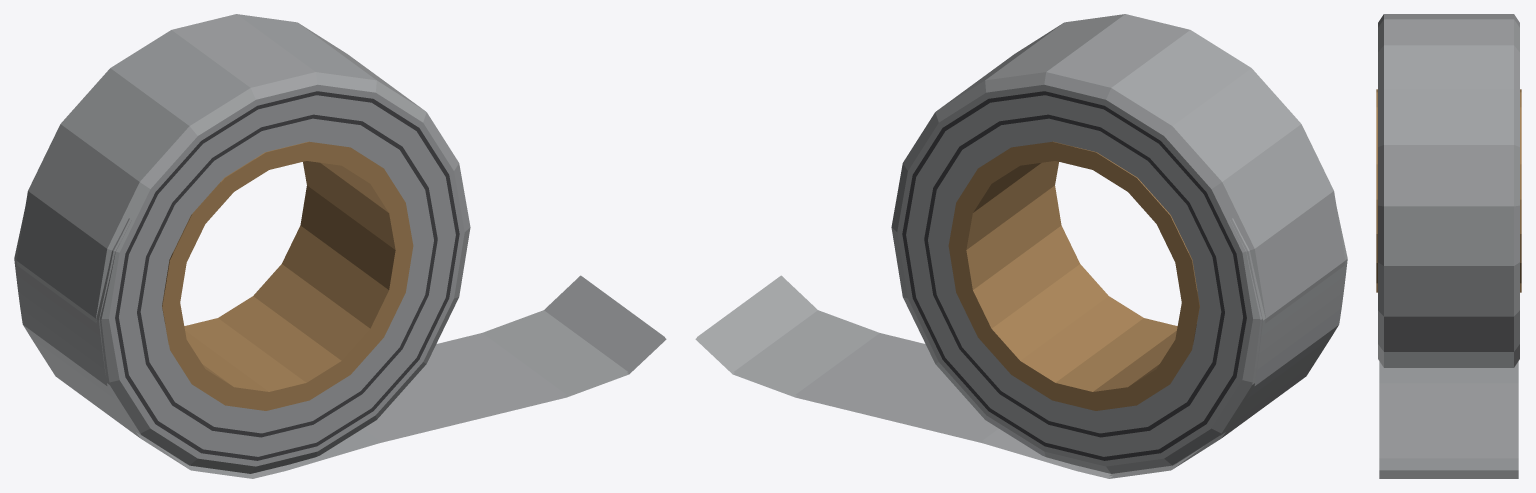
File: item-duct-tape.glb
3 views of the same model, side by side, from view 1: azimuth 30°, elevation 25°; view 2: azimuth 150°, elevation 25°; view 3: azimuth 270°, elevation 25° (orthographic). The views are drawn at different scales.
Parts seen in each view (by area): view 1: ductTape; view 2: ductTape; view 3: ductTape.
Boxes of the visible parts, box(x1,y1,x2,y2) form: ductTape: box(14, 14, 666, 478); ductTape: box(695, 14, 1347, 478); ductTape: box(1376, 14, 1521, 478).
Size of the model in its own units: 0.182 by 0.1191 by 0.0492.
